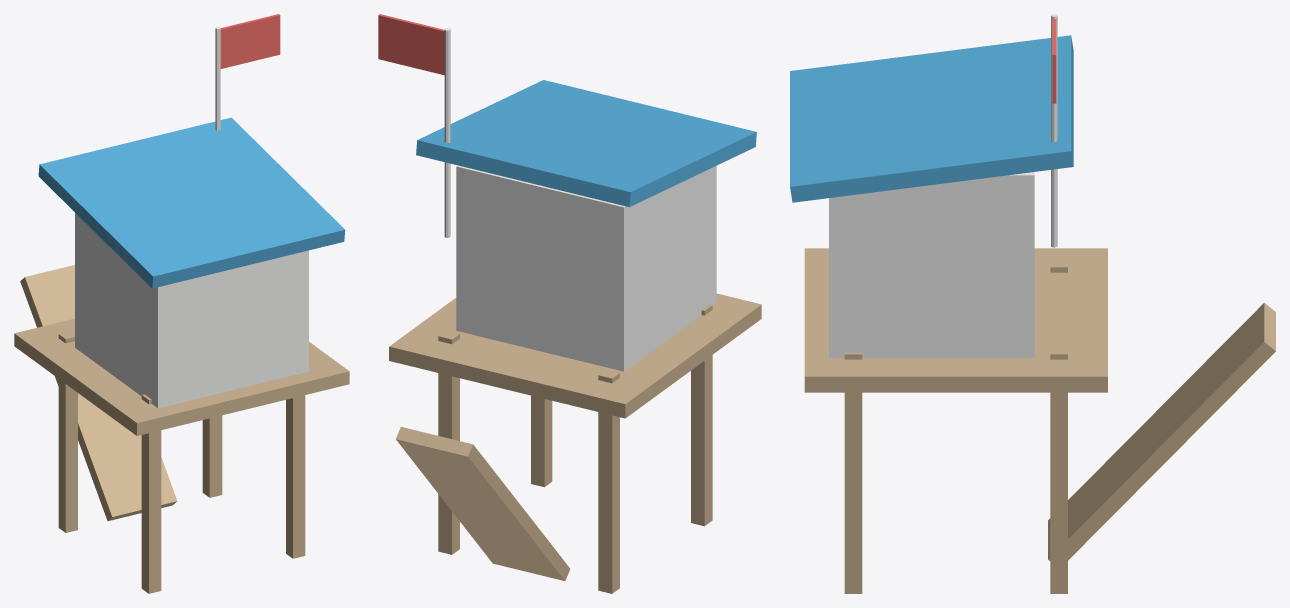
The model's file is Beach_LifeguardTower.fbx.
The picture shows the model from 3 angles, left to right: view 1: azimuth 30°, elevation 25°; view 2: azimuth 150°, elevation 25°; view 3: azimuth 270°, elevation 25°; orthographic projection. The views are drawn at different scales.
Visible parts, largest first — view 1: Cube.006, Cube.005, Cube.004, Cube.008, Cube, Cube.002, Cube.001, Cube.007, Cube.003, Cylinder; view 2: Cube.005, Cube.006, Cube.004, Cube.008, Cube.001, Cube, Cube.007, Cube.003, Cube.002, Cylinder; view 3: Cube.006, Cube.005, Cube.004, Cube.008, Cube.002, Cube.003, Cylinder.
Boxes of the visible parts, x1,y1,x2,y2 form: Cube.006: [38, 117, 345, 288]; Cube.005: [75, 213, 308, 408]; Cube.004: [14, 318, 349, 435]; Cube.008: [20, 265, 177, 520]; Cube: [141, 394, 161, 593]; Cube.002: [286, 395, 305, 558]; Cube.001: [58, 331, 77, 532]; Cube.007: [220, 14, 280, 68]; Cube.003: [202, 415, 222, 497]; Cylinder: [215, 26, 220, 130]; Cube.005: [456, 165, 716, 371]; Cube.006: [416, 80, 756, 207]; Cube.004: [389, 293, 761, 418]; Cube.008: [396, 427, 570, 580]; Cube.001: [598, 369, 619, 593]; Cube: [691, 304, 712, 526]; Cube.007: [378, 14, 444, 75]; Cube.003: [438, 330, 459, 554]; Cube.002: [531, 395, 552, 487]; Cylinder: [444, 28, 450, 237]; Cube.006: [790, 35, 1073, 202]; Cube.005: [829, 172, 1034, 357]; Cube.004: [804, 248, 1107, 392]; Cube.008: [1048, 302, 1275, 560]; Cube.002: [844, 352, 862, 593]; Cube.003: [1050, 347, 1067, 593]; Cylinder: [1051, 14, 1057, 247].
Bounding box in the file's own units: 3.55 × 6.53 × 4.96.
